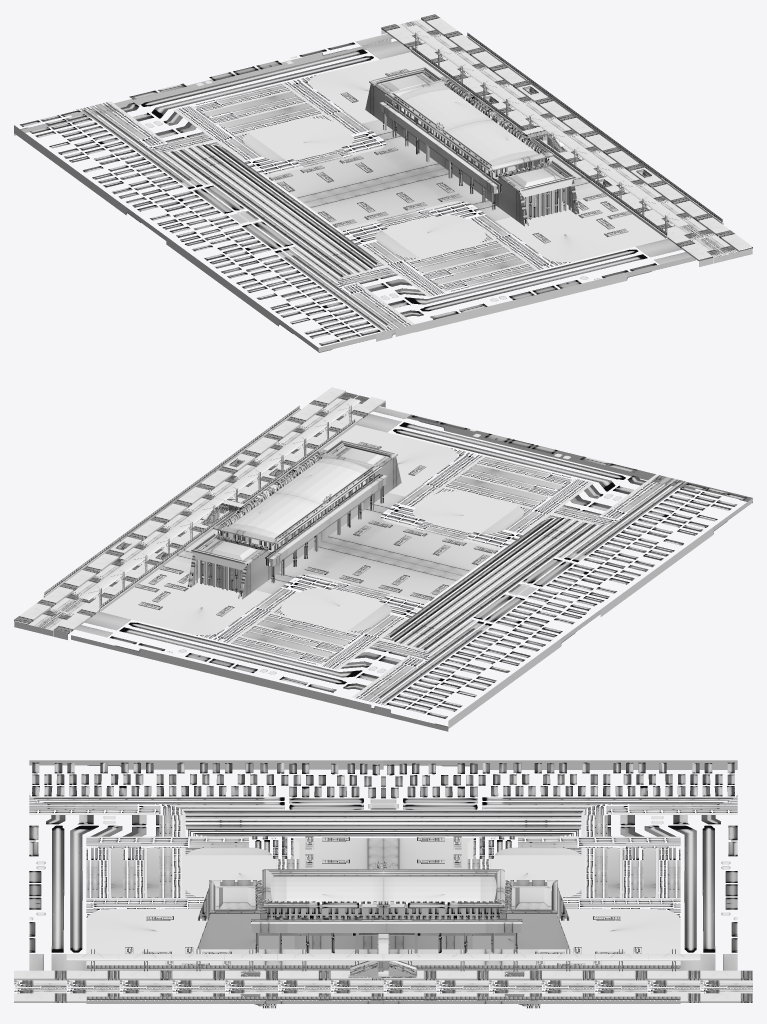
Rendered from HuoCheZhan1.fbx.
3 renders of one model, top to bottom at view 1: azimuth 30°, elevation 25°; view 2: azimuth 150°, elevation 25°; view 3: azimuth 270°, elevation 25°, orthographic. The views are drawn at different scales.
Parts seen in each view (by area): view 1: GuangChang1, ShouPingTing1, ZhanTai1, LuJi, DingPeng1, TeShiWang1, ZhanTai2; view 2: GuangChang1, ShouPingTing1, ZhanTai1, LuJi, DingPeng1, TeShiWang1, ZhanTai2; view 3: GuangChang1, ShouPingTing1, ZhanTai1, LuJi, TeShiWang1, DingPeng1, ZhanTai2, ZouLang1.
Boxes of the visible parts, bbox=[...] form: GuangChang1: bbox=[14, 33, 723, 352]; ShouPingTing1: bbox=[365, 67, 579, 226]; ZhanTai1: bbox=[381, 14, 752, 266]; LuJi: bbox=[397, 19, 738, 263]; DingPeng1: bbox=[406, 25, 689, 234]; TeShiWang1: bbox=[411, 32, 722, 235]; ZhanTai2: bbox=[473, 80, 661, 192]; GuangChang1: bbox=[43, 406, 752, 731]; ShouPingTing1: bbox=[187, 440, 401, 599]; ZhanTai1: bbox=[14, 387, 385, 639]; LuJi: bbox=[28, 392, 369, 636]; DingPeng1: bbox=[77, 398, 360, 607]; TeShiWang1: bbox=[44, 405, 355, 608]; ZhanTai2: bbox=[105, 453, 293, 565]; GuangChang1: bbox=[29, 760, 737, 1003]; ShouPingTing1: bbox=[197, 861, 569, 953]; ZhanTai1: bbox=[14, 970, 752, 1002]; LuJi: bbox=[14, 980, 752, 994]; TeShiWang1: bbox=[86, 965, 680, 1000]; DingPeng1: bbox=[66, 949, 700, 971]; ZhanTai2: bbox=[225, 970, 541, 1008]; ZouLang1: bbox=[350, 933, 416, 976].
Size of the model in its own units: 43681 by 5603 by 56000.
